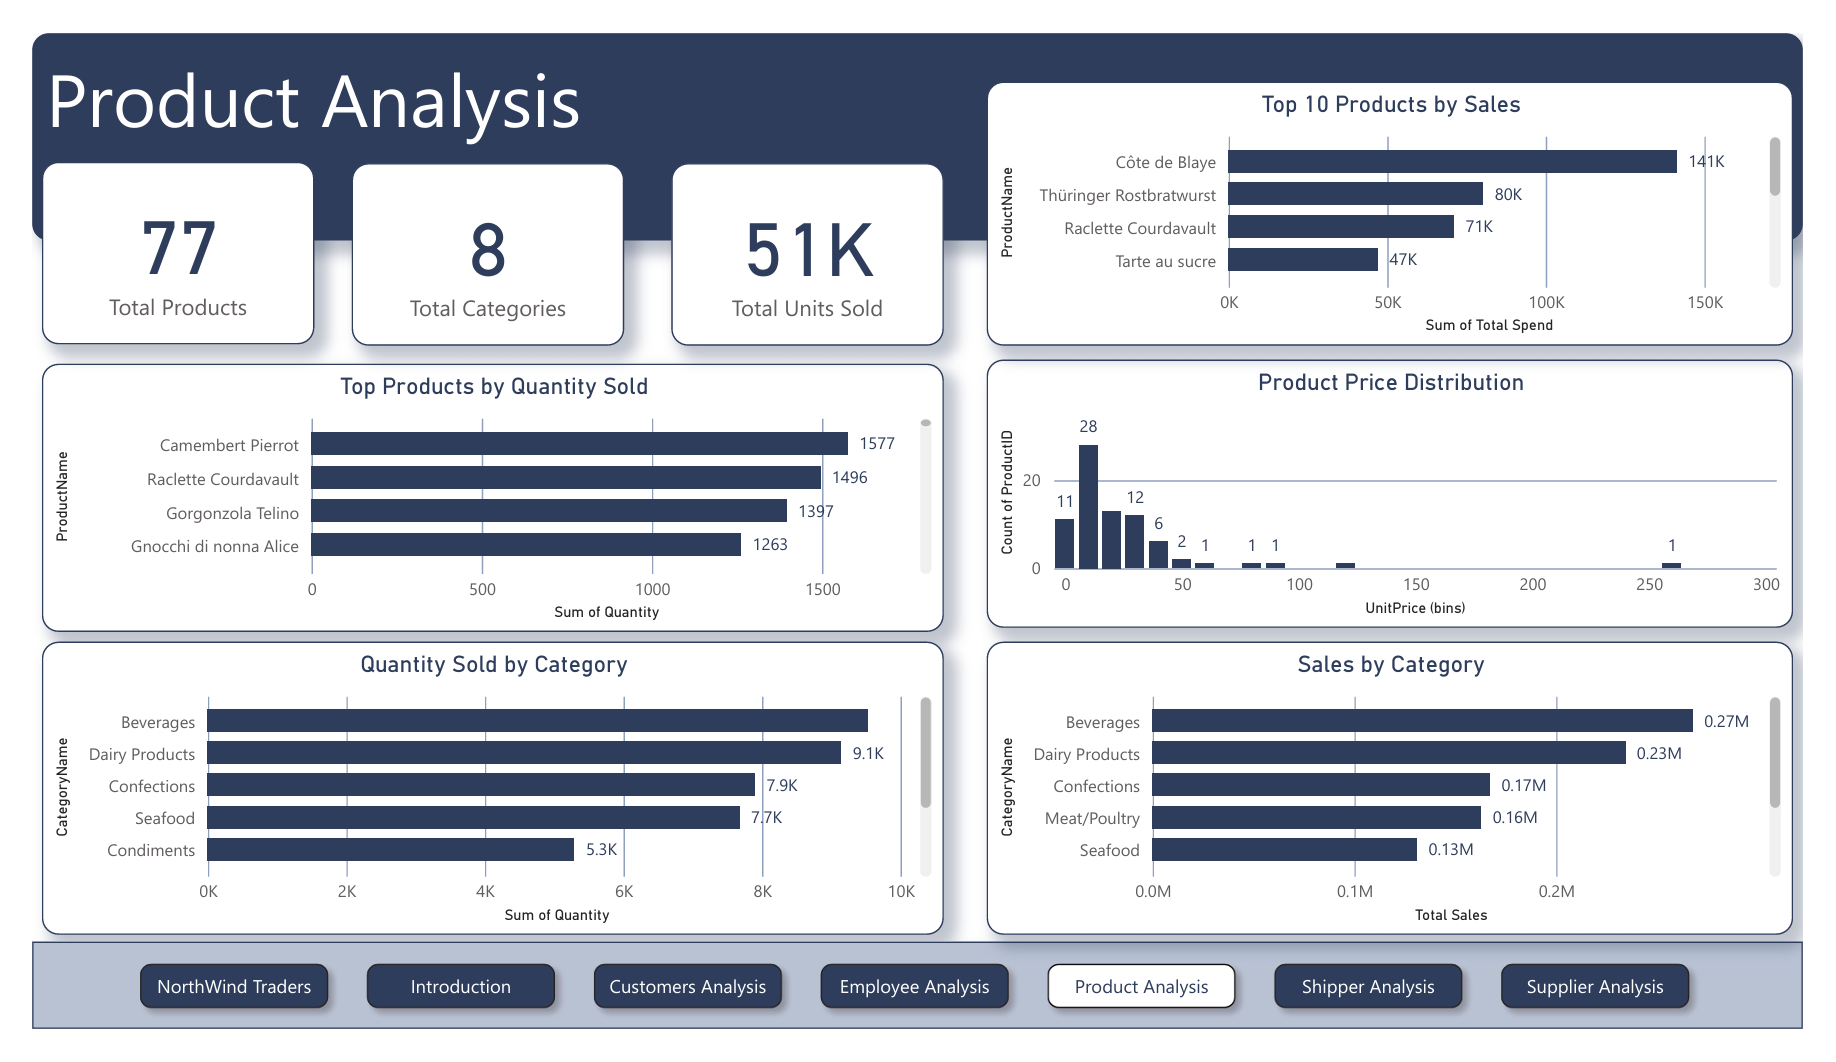

Layout of this report page (visuals, bound fields, positions):
{"tool":"powerbi","page":{"name":"Product Analysis","canvas":[1280,720],"ordinal":4},"visuals":[{"type":"textbox","box":[0,0,1280,150],"z":0},{"type":"textbox","box":[0,657,1280,63],"z":0,"group":"g1"},{"type":"barChart","title":"Top Products by Quantity Sold","fields":{"Category":["products.ProductName"],"Y":["Sum(order details.Quantity)"]},"box":[7.3,239.4,652,194.1],"z":1000},{"type":"barChart","title":"Quantity Sold by Category","fields":{"Category":["categories.CategoryName"],"Y":["Sum(order details.Quantity)"]},"box":[7.3,439.8,652,212.2],"z":2000},{"type":"group","id":"g1","title":"Group 1","box":[0,657,1280,63],"z":3000},{"type":"columnChart","title":"Product Price Distribution","fields":{"Category":["products.UnitPrice (bins)"],"Y":["CountNonNull(products.ProductID)"]},"box":[690.1,235.8,583.1,194.1],"z":4000},{"type":"barChart","title":"Top 10 Products by Sales","fields":{"Category":["products.ProductName"],"Y":["Sum(order details.Total Spend)"]},"box":[690.1,35.4,583.1,190.4],"z":5000},{"type":"pageNavigator","box":[69,664,1141,50],"z":5501,"group":"g1"},{"type":"card","fields":{"Values":["products.Total Products"]},"box":[7.3,93.4,196.8,131.5],"z":6000},{"type":"card","fields":{"Values":["order details.Total Quantity"]},"box":[462,94,197,132],"z":7000},{"type":"card","fields":{"Values":["CountNonNull(categories.CategoryName)"]},"box":[231,94,197,132],"z":8000},{"type":"barChart","title":"Sales by Category","fields":{"Category":["categories.CategoryName"],"Y":["order details.Total Sales"]},"box":[690.1,439.8,583.1,212.2],"z":9000}]}

Visuals, with their boxes in screenshot pixels (x1, y1, x2, y2), scaled from the page's 1280x720 canvas onto the 1836x1062 screenshot:
textbox: (x1=0, y1=0, x2=1835, y2=221)
textbox: (x1=0, y1=969, x2=1835, y2=1061)
"Top Products by Quantity Sold" barChart: (x1=10, y1=353, x2=946, y2=639)
"Quantity Sold by Category" barChart: (x1=10, y1=649, x2=946, y2=962)
"Group 1" group: (x1=0, y1=969, x2=1835, y2=1061)
"Product Price Distribution" columnChart: (x1=990, y1=348, x2=1826, y2=634)
"Top 10 Products by Sales" barChart: (x1=990, y1=52, x2=1826, y2=333)
pageNavigator: (x1=99, y1=979, x2=1736, y2=1053)
card - products.Total Products: (x1=10, y1=138, x2=293, y2=332)
card - order details.Total Quantity: (x1=663, y1=139, x2=945, y2=333)
card - CountNonNull(categories.CategoryName): (x1=331, y1=139, x2=614, y2=333)
"Sales by Category" barChart: (x1=990, y1=649, x2=1826, y2=962)
